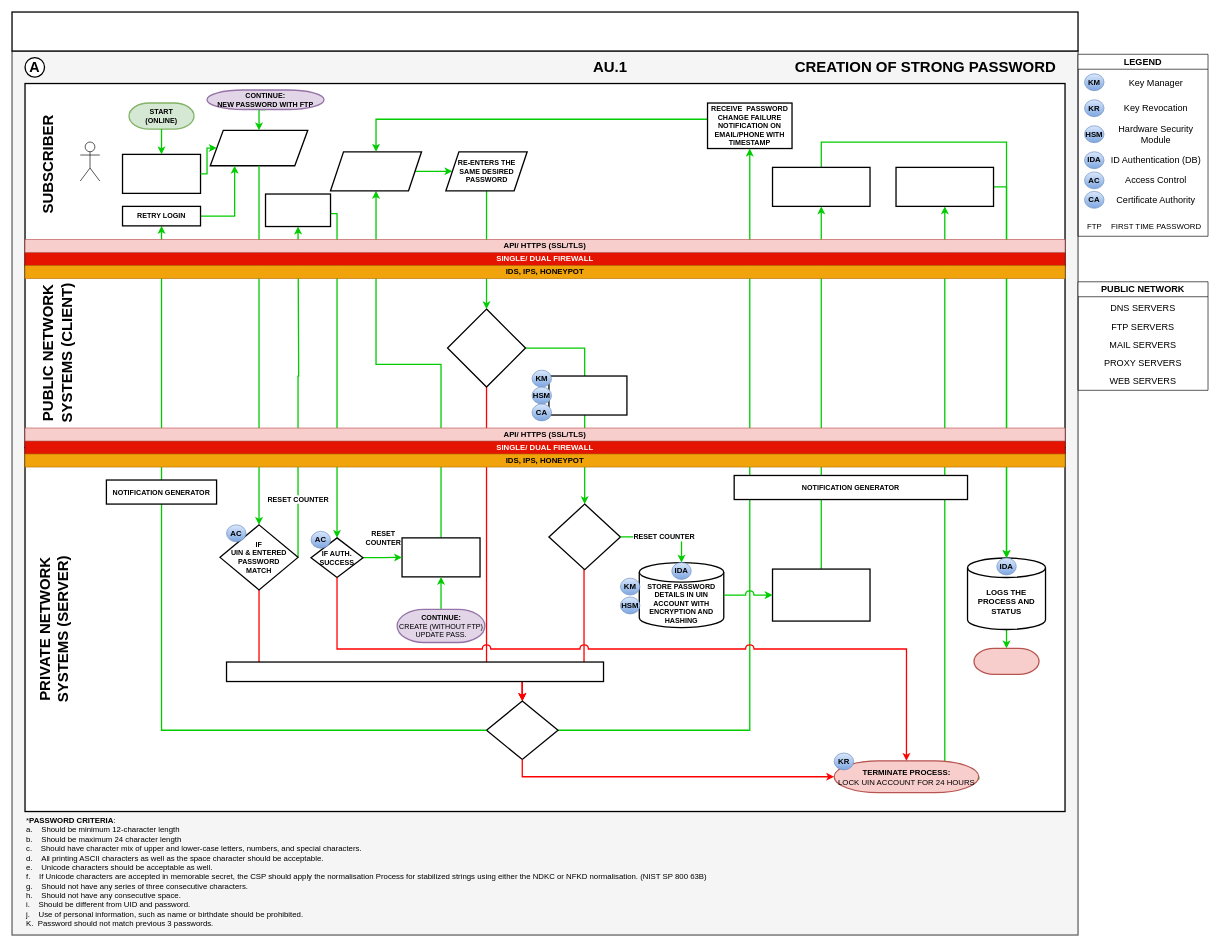
This 1219x952 diagram has some shape labels left out. Here are the shapes that lost their labels. From the top down, the centre of each, then its label:
point 544,31: Purpose: This SOP g uides users in creating a strong and secure password.
point 90,161: USER
point 258,147: ENTERS UIN AND RECEIVED FTP (TEMPORARY)
point 161,173: VISIT DID PORTAL LOGIN PAGE
point 376,171: ENTERS DESIRED PASSWORD WITH SPECIFIED CRITERIA
point 821,186: RECEIVE PASSWORD CHANGED SUCCESSFUL NOTIFICATION ON EMAIL/PHONE
point 944,186: RECEIVE PASSWORD CHANGED FAILURE NOTIFICATION ON EMAIL/PHONE
point 298,210: AUTHENTICATE USING OTP B.2.4.1.B
point 486,347: IF BOTH ENTERED PASSWORD MATCH
point 587,395: MASK & ENCRYPT PASSWORD FOR CREATION
point 584,536: IF PASSWORD CRITERIA* MET
point 440,557: PROMPT CREATE NEW PASSWORD
point 821,594: SEND PASSWORD CHANGED NOTIFICATION ON EMAIL/PHONE WITH TIMESTAMP
point 415,671: EXCEPTION AND ERROR HANDLING (COUNTER)
point 1006,661: END
point 522,730: IF RETRY COUNT <=3
